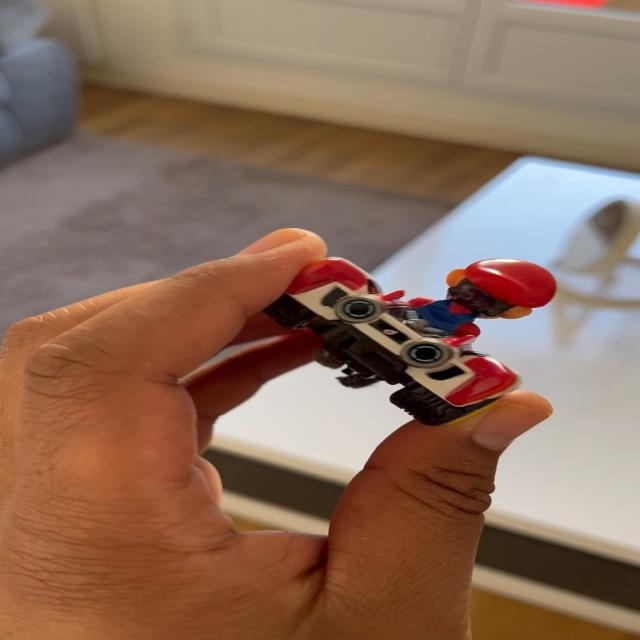mario: (274, 243, 570, 433)
